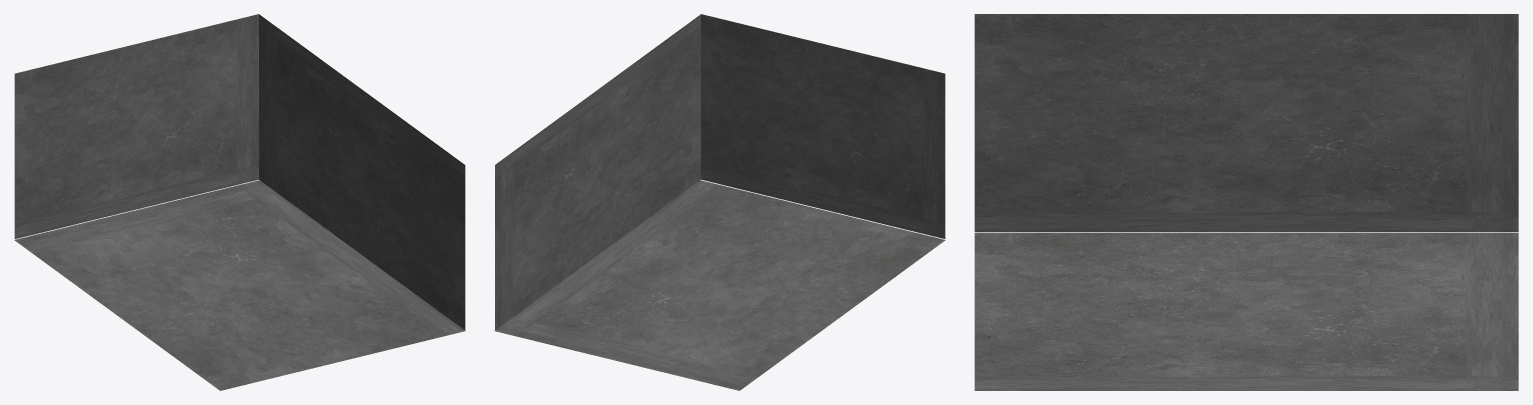
The model's file is throneRoom.glb.
3 views of the same model, side by side, from view 1: azimuth 30°, elevation 25°; view 2: azimuth 150°, elevation 25°; view 3: azimuth 270°, elevation 25° (orthographic). The views are drawn at different scales.
Parts seen in each view (by area): view 1: group3; view 2: group3; view 3: group3.
Part boxes in pixels (x1,y1,x2,y2): group3: (14,14,465,390); group3: (494,14,945,390); group3: (974,14,1518,390).
Bounding box in the file's own units: 14.06 × 9.09 × 20.46.
1 material, 1 textured.
